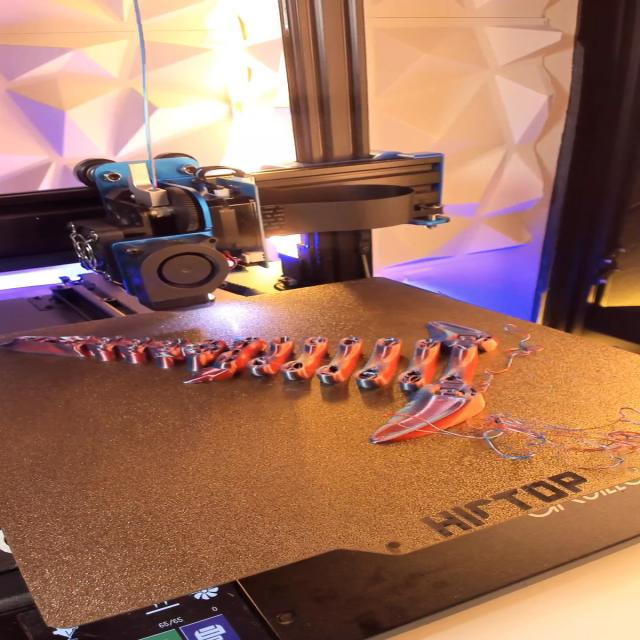spaghetti: (453, 413, 640, 475)
